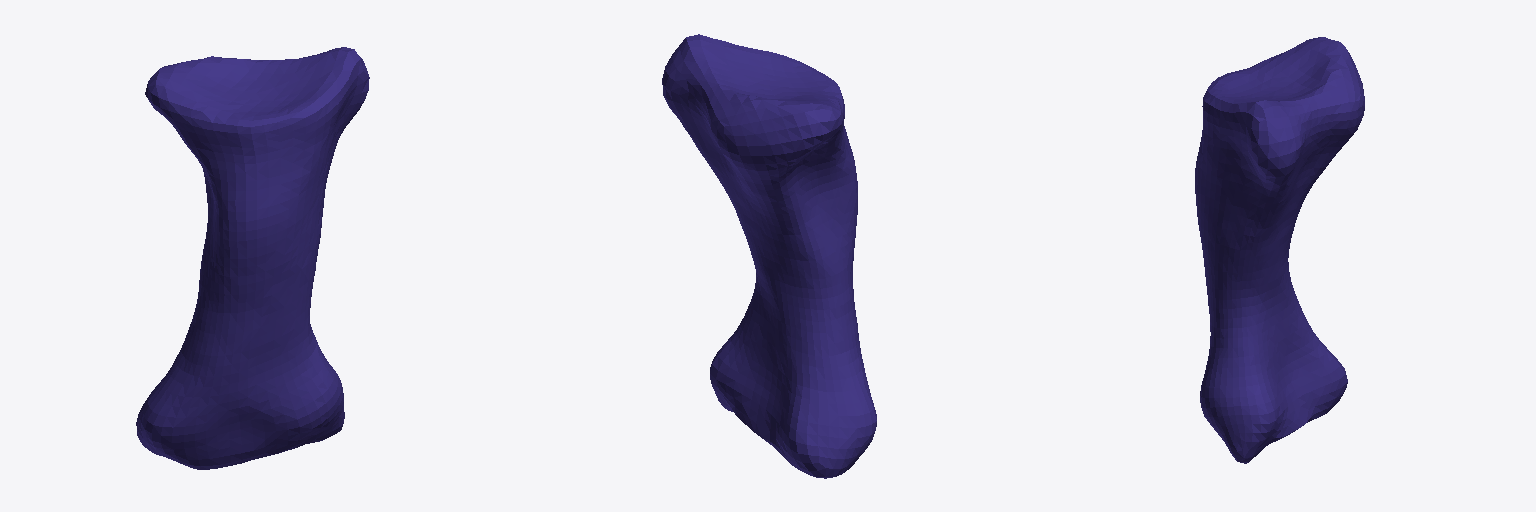
The model's file is ProximalPhalanx_5.obj.
3 renders of one model, left to right at view 1: azimuth 30°, elevation 25°; view 2: azimuth 150°, elevation 25°; view 3: azimuth 270°, elevation 25°, orthographic.
Visible parts, largest first — view 1: Object_0ProximalPhalanx_5; view 2: Object_0ProximalPhalanx_5; view 3: Object_0ProximalPhalanx_5.
Boxes of the visible parts, x1=… form: Object_0ProximalPhalanx_5: x1=136, y1=47, x2=369, y2=469; Object_0ProximalPhalanx_5: x1=662, y1=34, x2=876, y2=478; Object_0ProximalPhalanx_5: x1=1195, y1=37, x2=1364, y2=463.
Size of the model in its own units: 14.92 by 25.7 by 10.26.